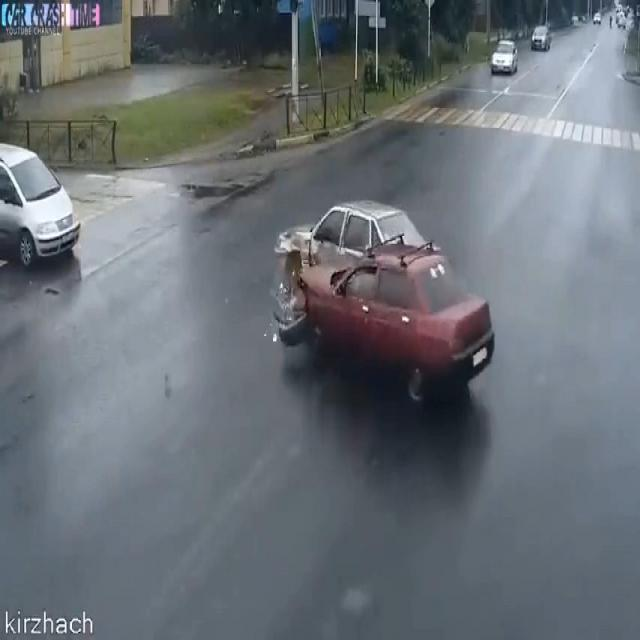Accident: (265, 153, 518, 440)
